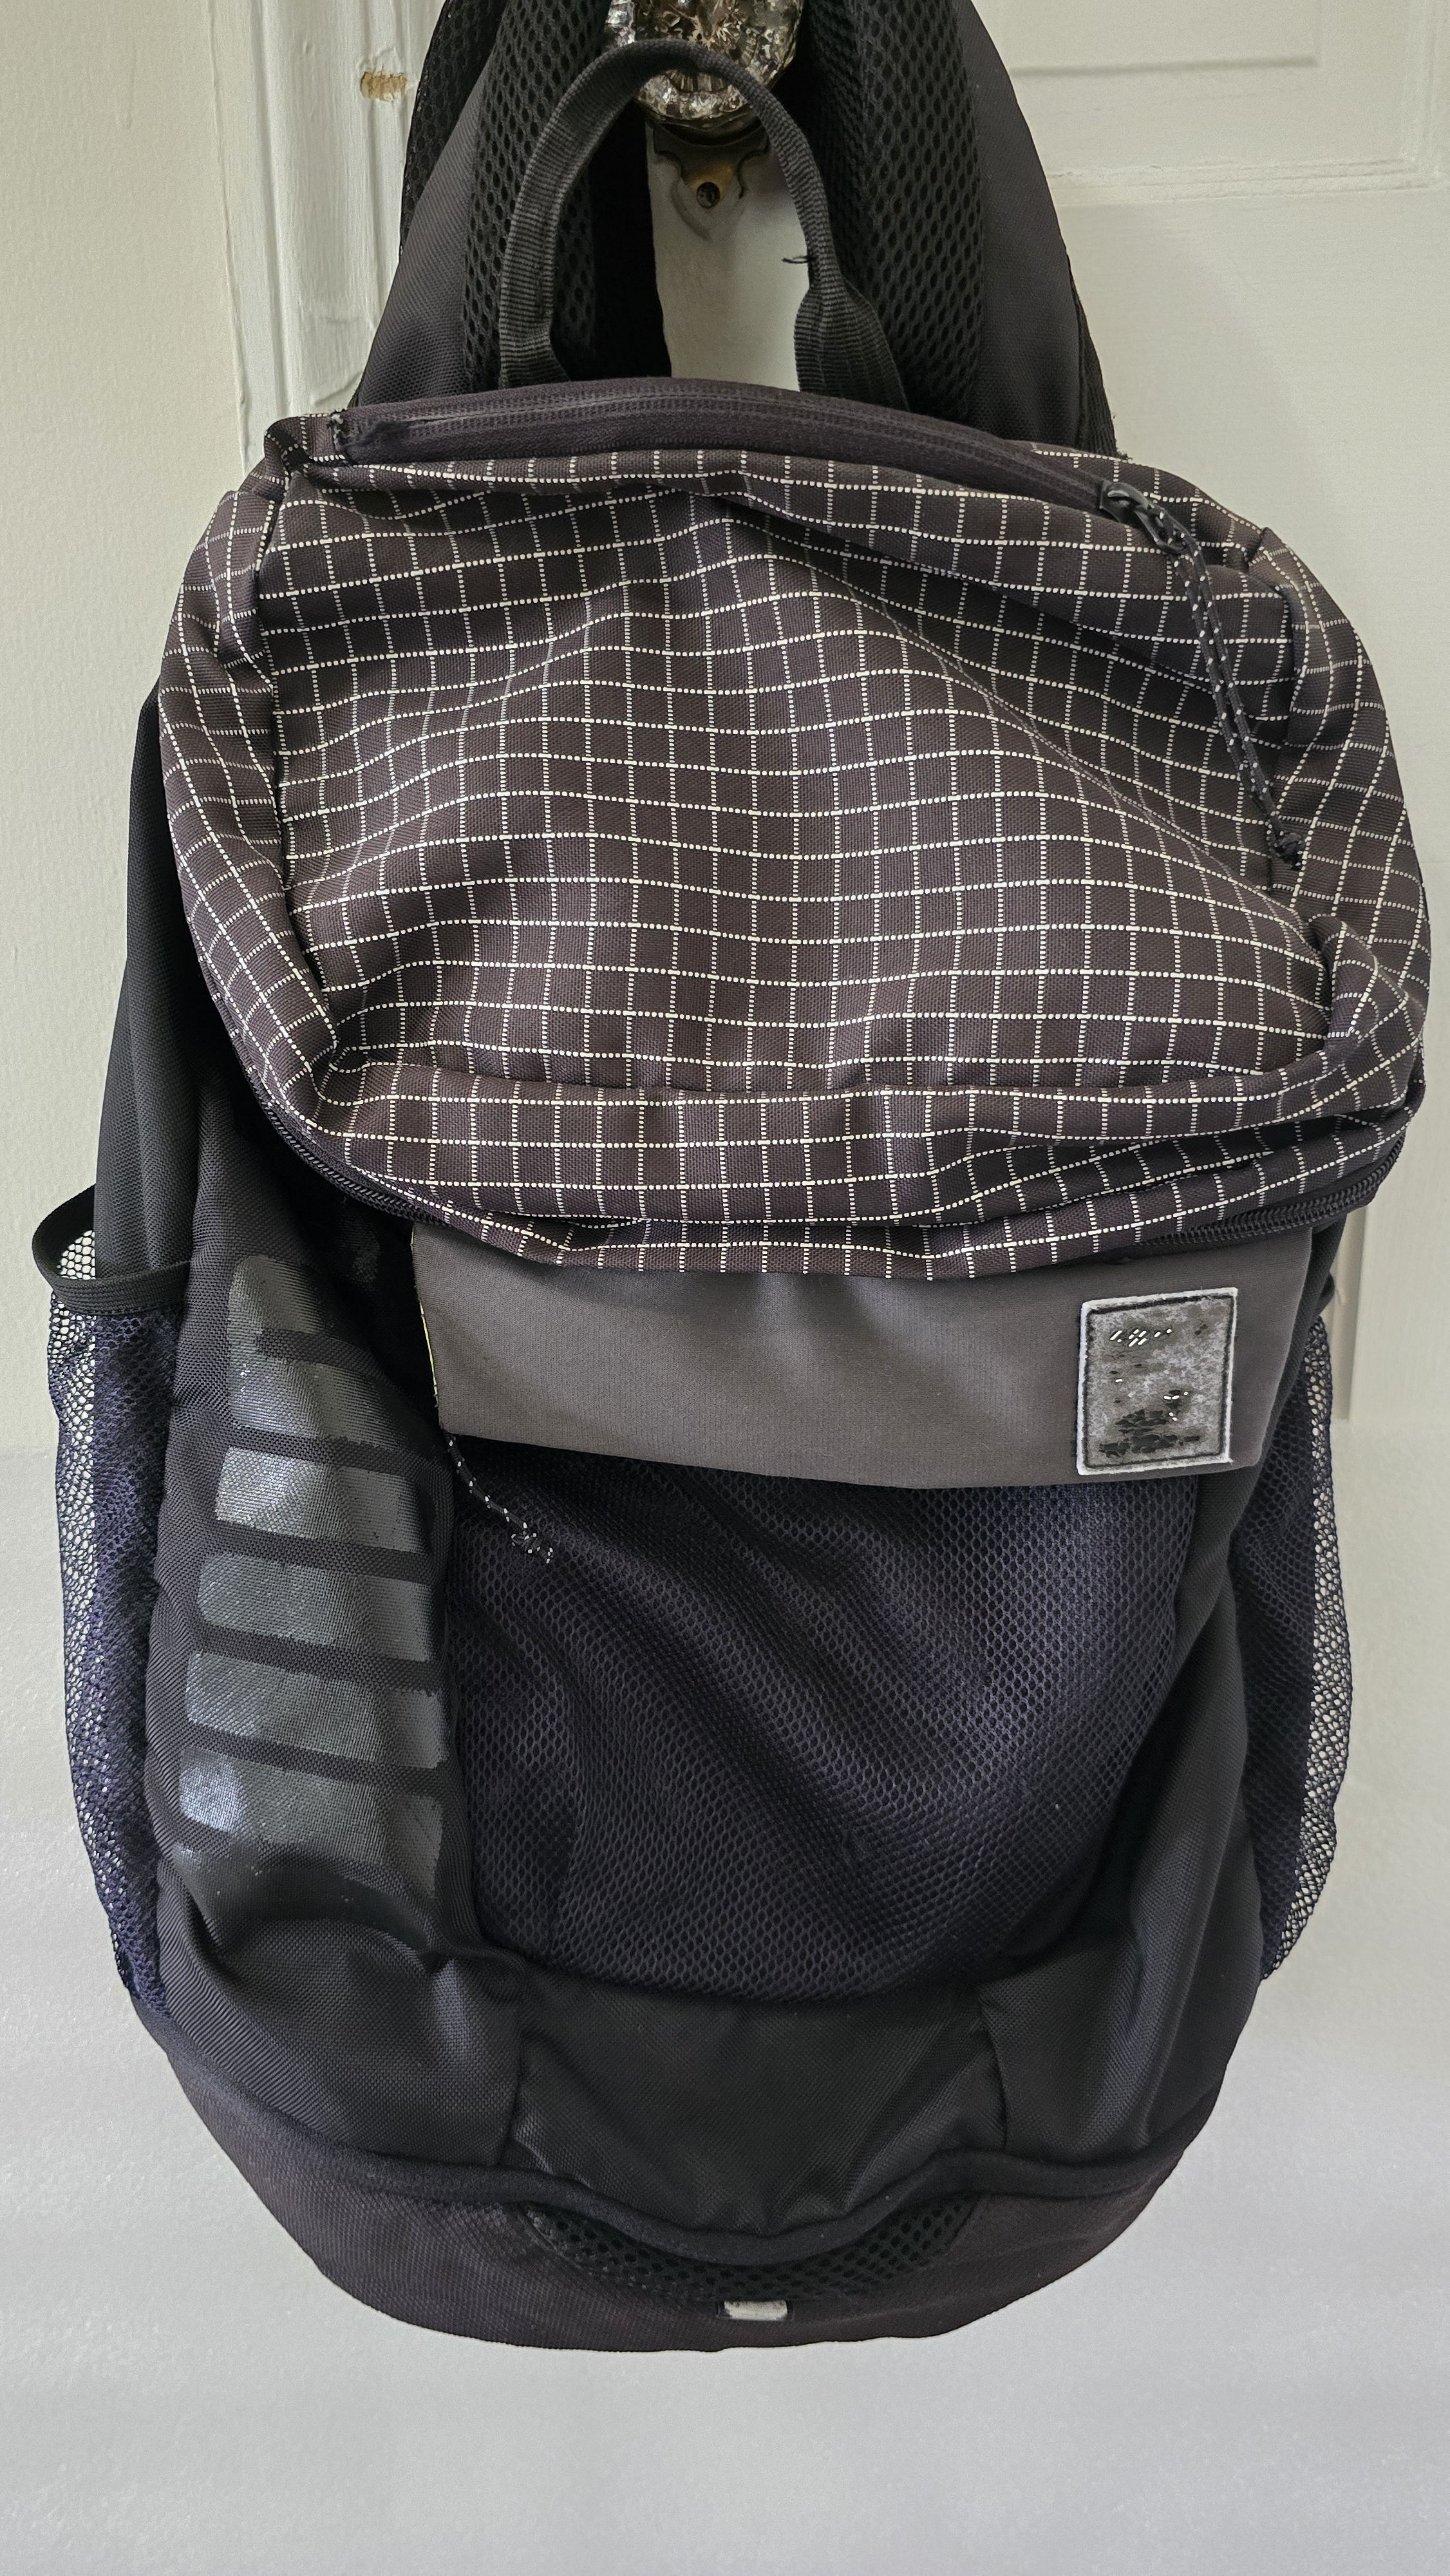bag: (30, 35, 1408, 2374)
